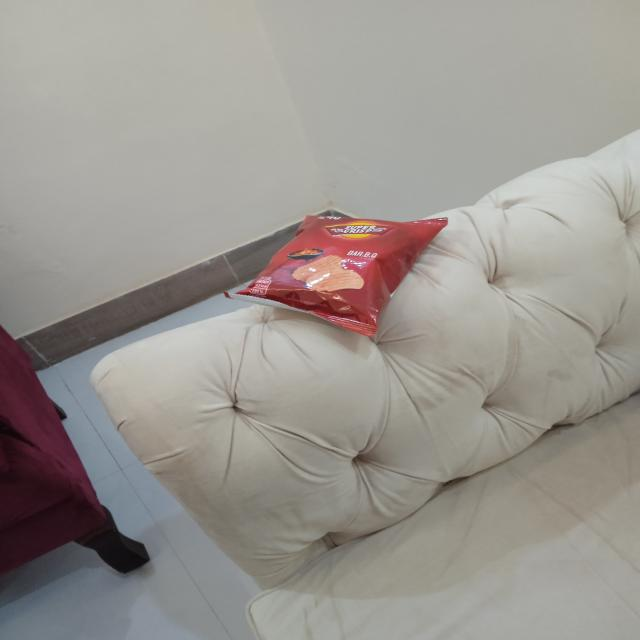Plastic: (228, 205, 449, 338)
